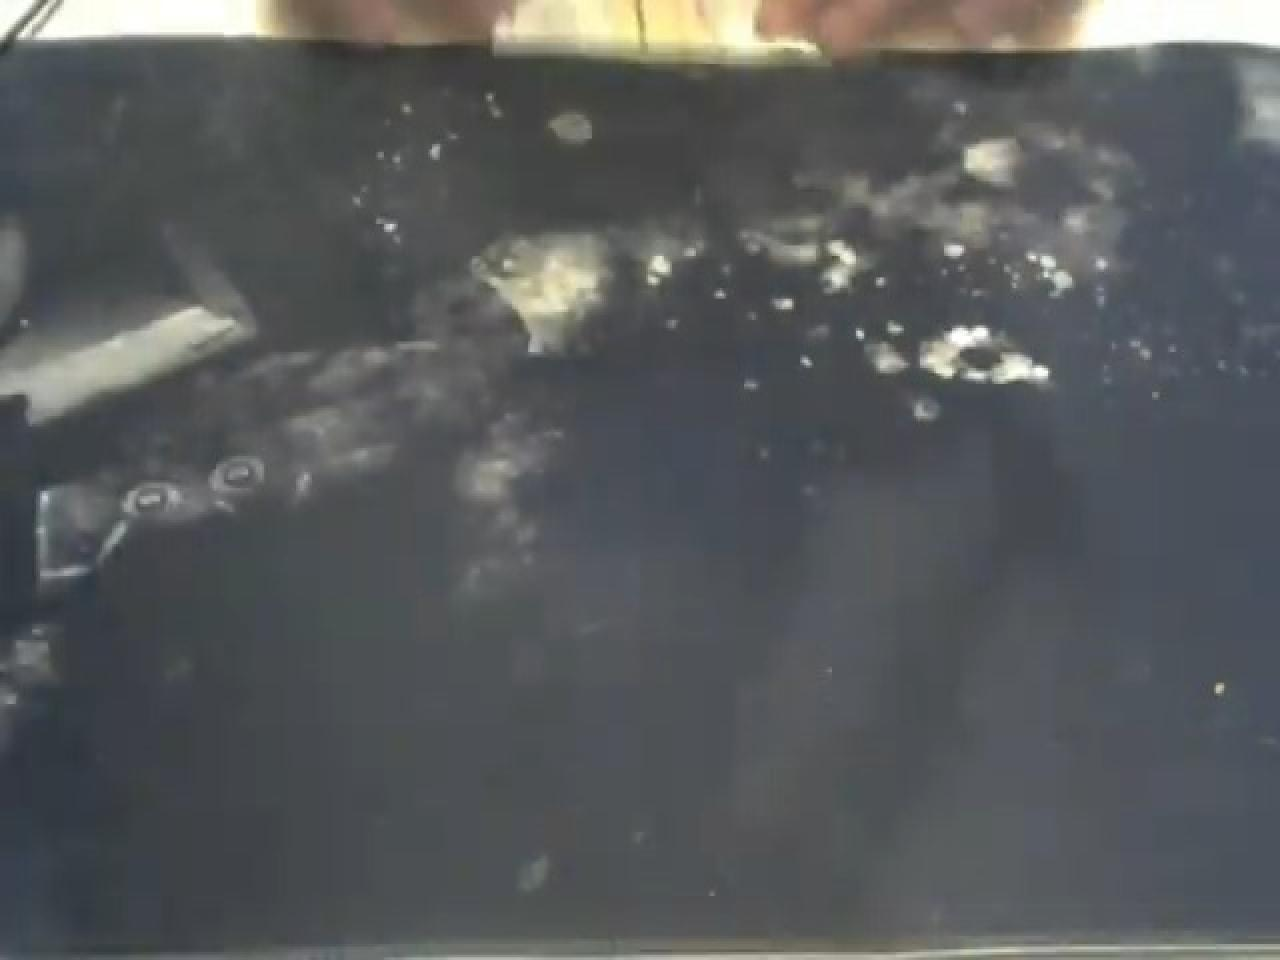10leva: (2, 29, 1276, 950)
